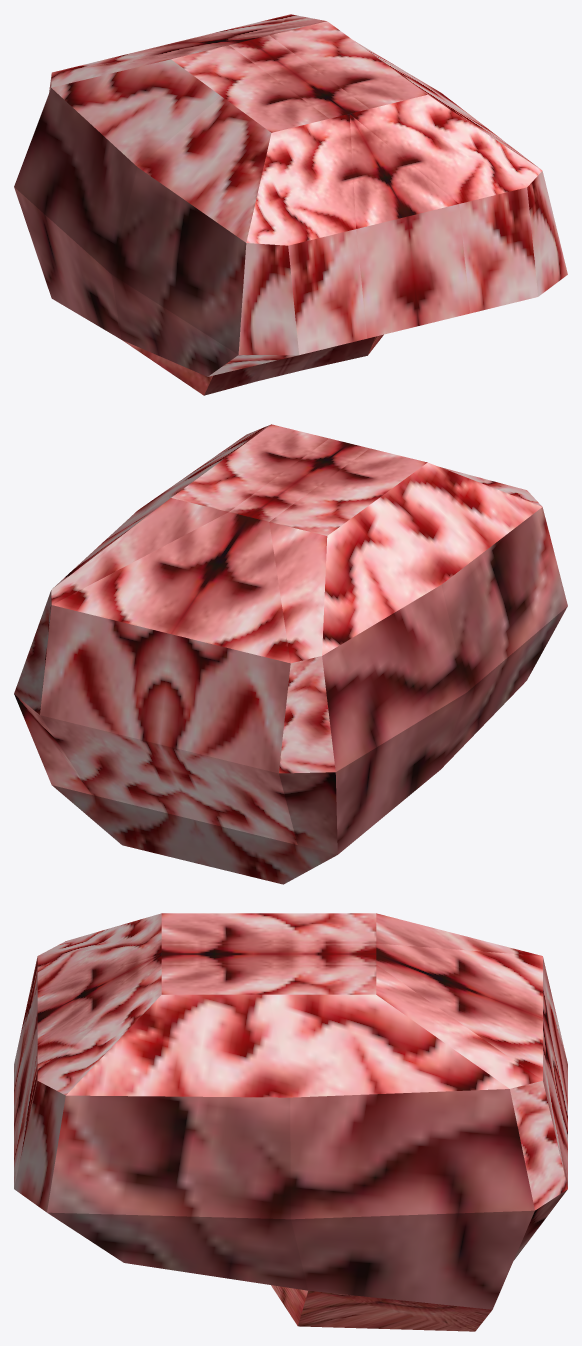
Rendered from braintest1.gltf.
3 views of the same model, one above another, from view 1: azimuth 30°, elevation 25°; view 2: azimuth 150°, elevation 25°; view 3: azimuth 270°, elevation 25° (orthographic). The views are drawn at different scales.
Parts seen in each view (by area): view 1: Cube; view 2: Cube; view 3: Cube.
Boxes of the visible parts, x1,y1,x2,y2 form: Cube: (14, 14, 567, 395); Cube: (14, 424, 567, 884); Cube: (14, 913, 567, 1331).
Size of the model in its own units: 1.83 by 1.55 by 2.32.
1 material, 1 textured.
